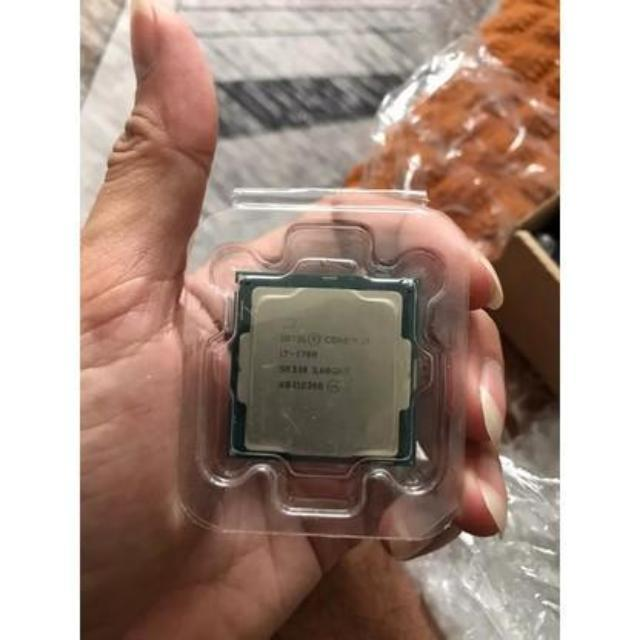CPU: (231, 274, 409, 469)
